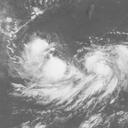cyclone: (28, 39, 123, 98)
